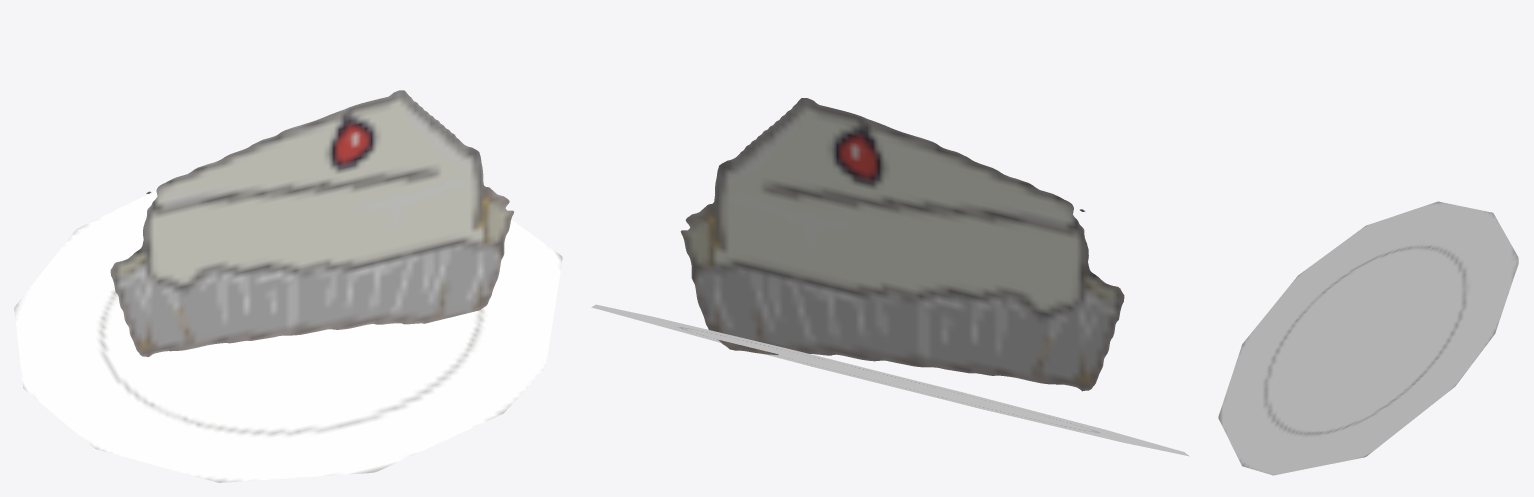
The model's file is giftgoods042a.fbx.
The picture shows the model from 3 angles, left to right: view 1: azimuth 30°, elevation 25°; view 2: azimuth 150°, elevation 25°; view 3: azimuth 270°, elevation 25°; orthographic projection. The views are drawn at different scales.
Visible parts, largest first — view 1: giftgoods042a; view 2: giftgoods042a; view 3: giftgoods042a.
Part boxes in pixels (x1=…): giftgoods042a: x1=14, y1=90, x2=562, y2=482; giftgoods042a: x1=591, y1=98, x2=1189, y2=456; giftgoods042a: x1=1218, y1=201, x2=1518, y2=475.
Bounding box in the file's own units: 0.3876 × 0.2434 × 0.2135.
